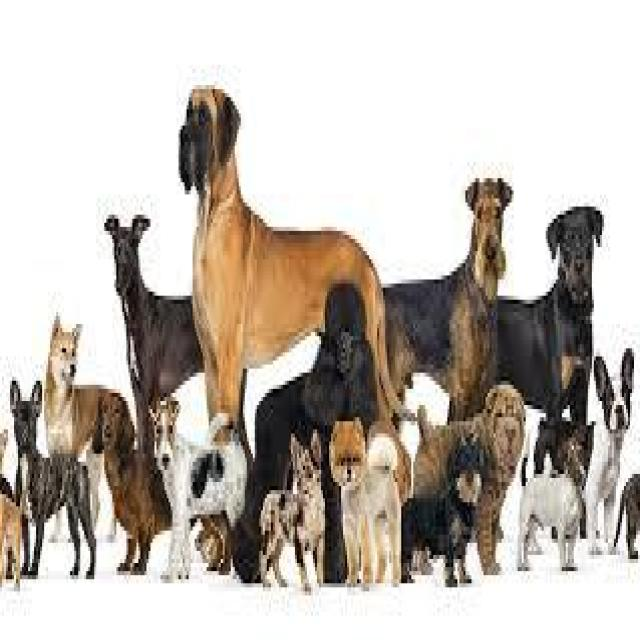Dog: (173, 77, 244, 202), (544, 203, 606, 314), (465, 170, 514, 292), (482, 378, 528, 479), (102, 207, 151, 300), (595, 342, 635, 444), (324, 413, 367, 494), (44, 312, 82, 392), (452, 429, 486, 516), (147, 398, 179, 475), (6, 378, 41, 448), (94, 388, 131, 454), (562, 433, 596, 490)
